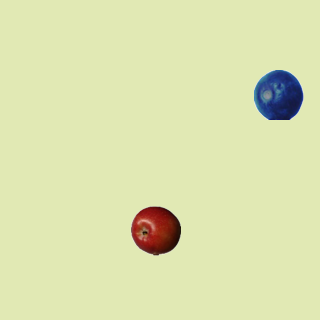Apple Braeburn: (130, 205, 180, 255)
Huckleberry: (253, 69, 303, 119)
